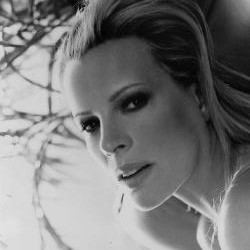face: (46, 3, 235, 218)
